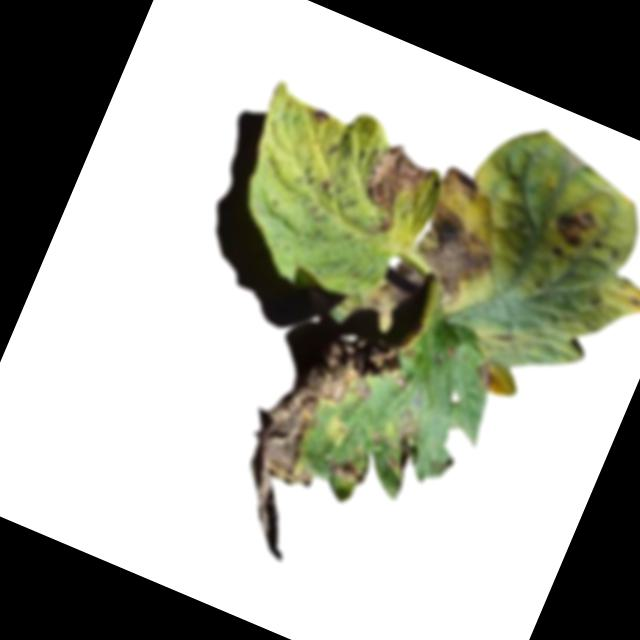Early_blight: (216, 312, 413, 578), (347, 139, 437, 246), (405, 210, 503, 307), (369, 405, 434, 479), (369, 255, 429, 321), (548, 198, 601, 252), (436, 162, 488, 207), (471, 359, 504, 395), (304, 104, 335, 130), (549, 244, 568, 263)
